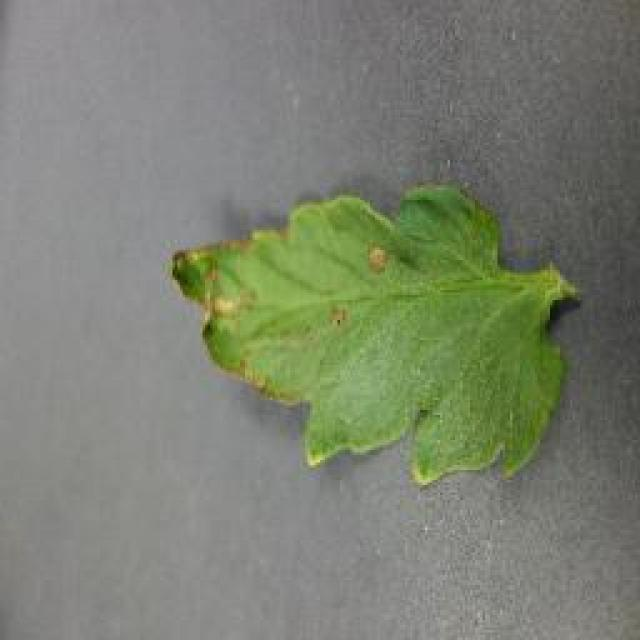Tomato bacterial spot leaf: (168, 182, 565, 486)
